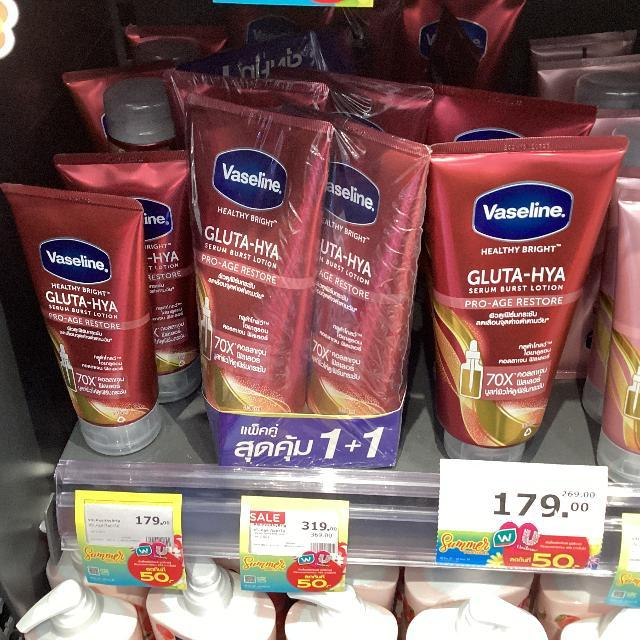Squeeze Tube: (32, 47, 617, 520)
